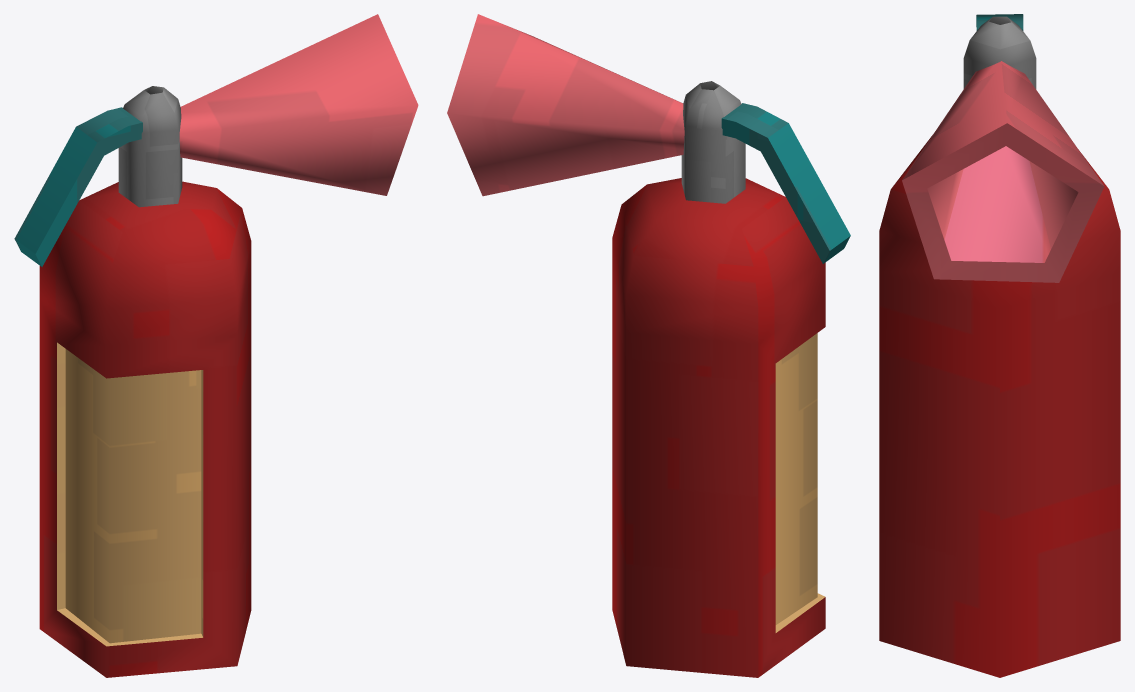
Rendered from FireExting.fbx.
3 views of the same model, side by side, from view 1: azimuth 30°, elevation 25°; view 2: azimuth 150°, elevation 25°; view 3: azimuth 270°, elevation 25° (orthographic). The views are drawn at different scales.
Parts seen in each view (by area): view 1: polySurface65; view 2: polySurface65; view 3: polySurface65.
Part boxes in pixels (<box>): polySurface65: <box>14,14,418,677</box>; polySurface65: <box>447,14,850,677</box>; polySurface65: <box>879,14,1120,677</box>.
Size of the model in its own units: 33.11 by 49.88 by 17.43.
